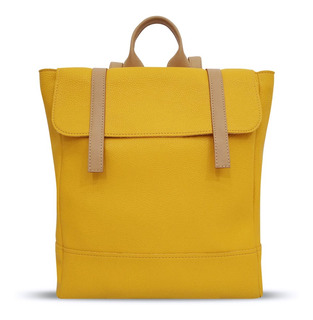cartera: (37, 15, 276, 301)
